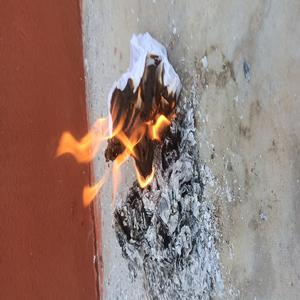fire: (49, 108, 138, 212)
